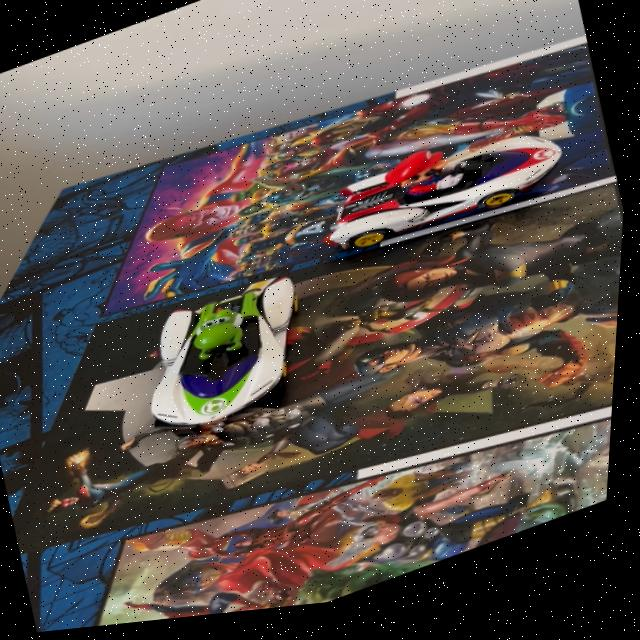mario: (305, 104, 585, 284)
yoshi: (115, 260, 338, 462)
